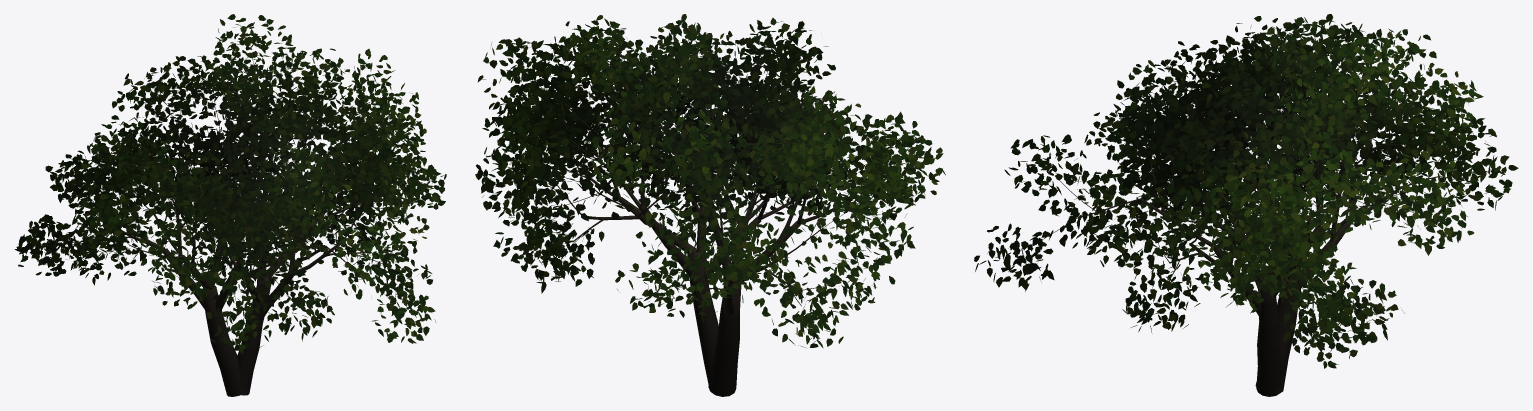
Rendered from SM_Cottonwood_B.fbx.
3 views of the same model, side by side, from view 1: azimuth 30°, elevation 25°; view 2: azimuth 150°, elevation 25°; view 3: azimuth 270°, elevation 25° (orthographic). The views are drawn at different scales.
Visible parts, largest first — view 1: SM_Cottonwood_B; view 2: SM_Cottonwood_B; view 3: SM_Cottonwood_B.
Part boxes in pixels (left/top/right/bottom): SM_Cottonwood_B: left=14, top=14, right=446, bottom=396; SM_Cottonwood_B: left=475, top=14, right=945, bottom=396; SM_Cottonwood_B: left=974, top=14, right=1518, bottom=396.
Bounding box in the file's own units: 12.64 × 10.54 × 13.49.
